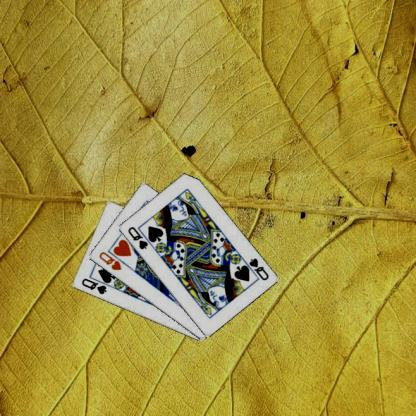QH: (96, 249, 122, 272)
QS: (246, 255, 270, 282), (125, 224, 149, 250), (78, 276, 108, 296)
